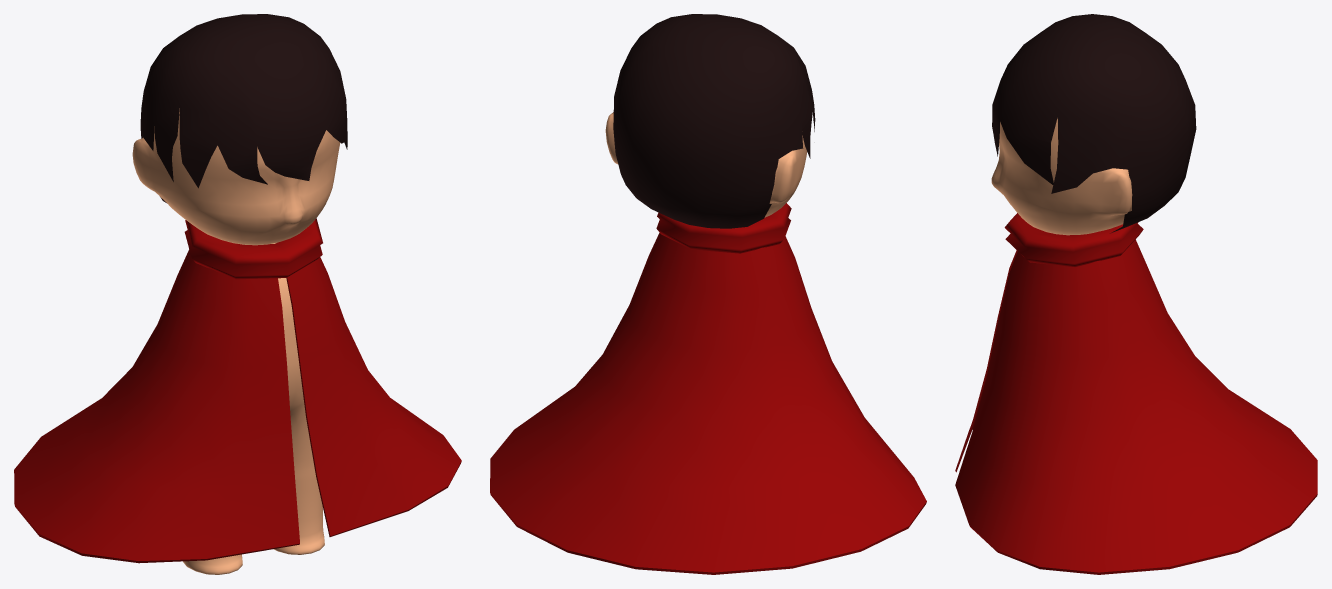
Rendered from SD_Char.fbx.
3 renders of one model, left to right at view 1: azimuth 30°, elevation 25°; view 2: azimuth 150°, elevation 25°; view 3: azimuth 270°, elevation 25°, orthographic. The views are drawn at different scales.
Parts seen in each view (by area): view 1: Cloak, Hair, Body, Scarf; view 2: Cloak, Hair, Scarf, Body; view 3: Cloak, Hair, Body, Scarf.
Part boxes in pixels (left/top/right/bottom): Cloak: left=14, top=249, right=461, bottom=563; Hair: left=140, top=14, right=347, bottom=202; Body: left=132, top=108, right=340, bottom=574; Scarf: left=184, top=218, right=322, bottom=279; Cloak: left=490, top=232, right=926, bottom=574; Hair: left=613, top=14, right=815, bottom=228; Scarf: left=656, top=203, right=791, bottom=253; Body: left=605, top=112, right=807, bottom=217; Cloak: left=955, top=239, right=1317, bottom=574; Hair: left=992, top=14, right=1196, bottom=233; Body: left=991, top=118, right=1132, bottom=235; Scarf: left=1004, top=213, right=1143, bottom=266.
Bounding box in the file's own units: 208 × 255 × 166.
